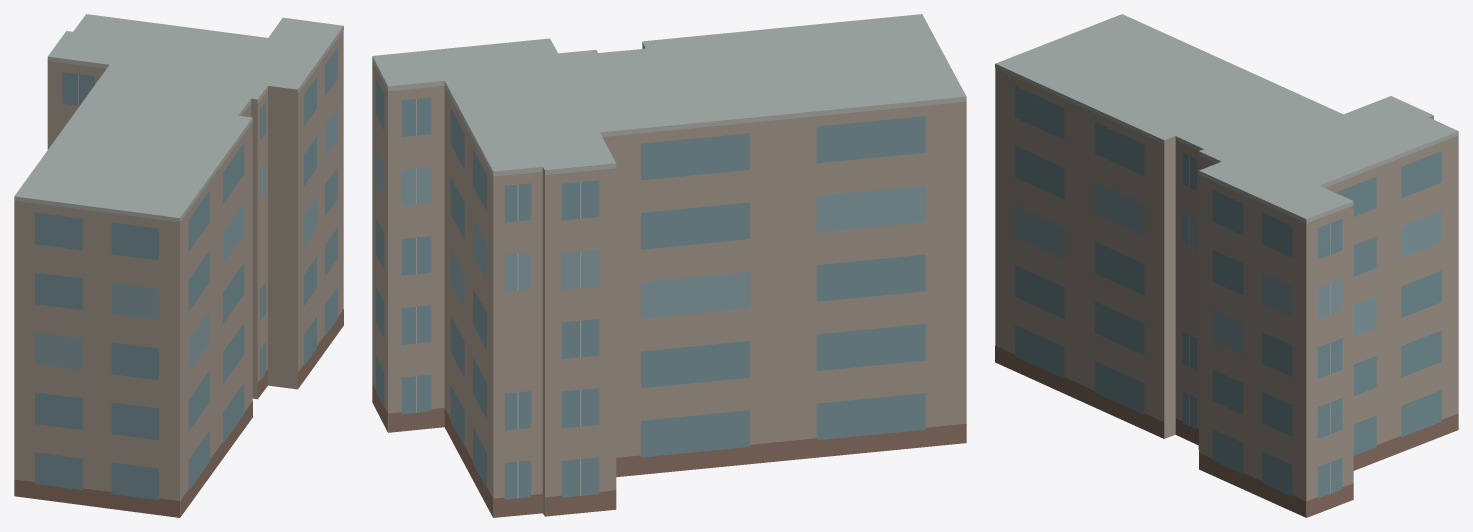
File: survey-upis-32597827.glb
3 renders of one model, left to right at view 1: azimuth 30°, elevation 25°; view 2: azimuth 150°, elevation 25°; view 3: azimuth 270°, elevation 25°, orthographic. The views are drawn at different scales.
Visible parts, largest first — view 1: survey-upis-32597827.tmp; view 2: survey-upis-32597827.tmp; view 3: survey-upis-32597827.tmp.
Part boxes in pixels (x1,y1,x2,y2): survey-upis-32597827.tmp: (14,14,343,517); survey-upis-32597827.tmp: (372,14,966,517); survey-upis-32597827.tmp: (995,14,1458,517).
Bounding box in the file's own units: 25.34 × 17.2 × 24.19.
